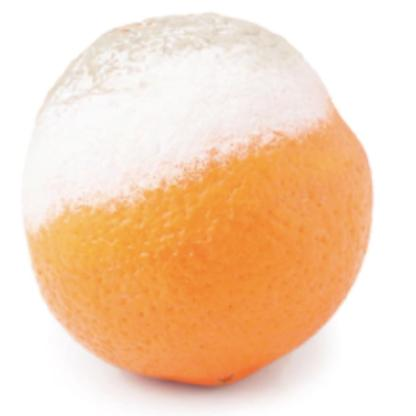rotten: (30, 18, 373, 389)
